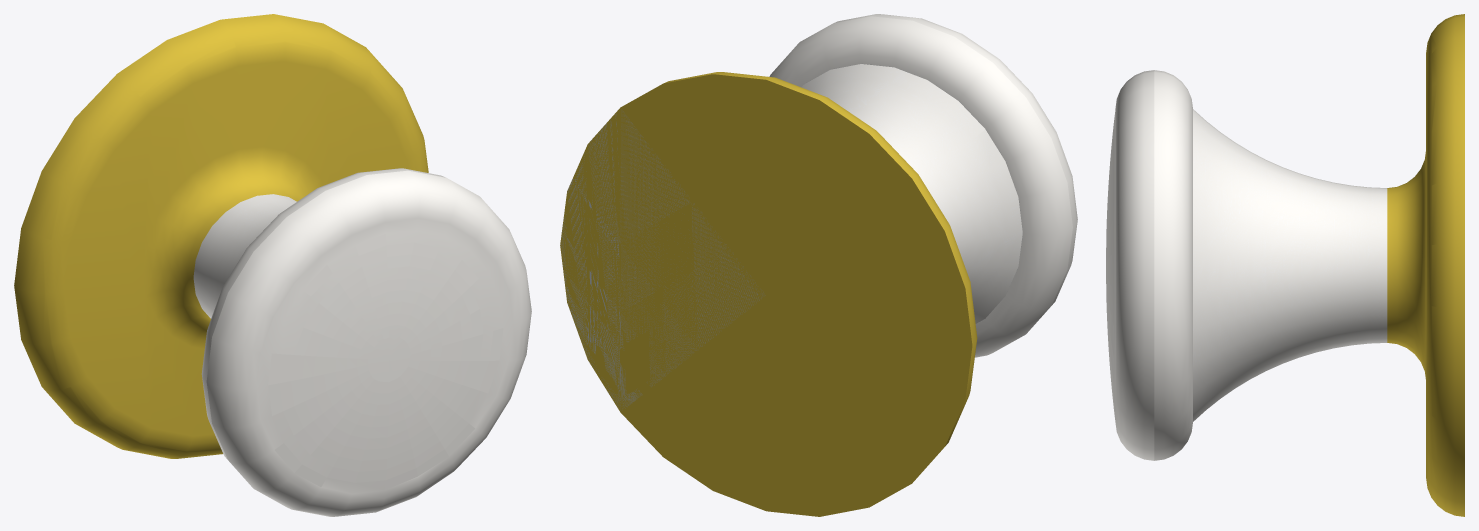
3 views of the same model, side by side, from view 1: azimuth 30°, elevation 25°; view 2: azimuth 150°, elevation 25°; view 3: azimuth 270°, elevation 25° (orthographic). The views are drawn at different scales.
Parts seen in each view (by area): view 1: SketchUp.013, SketchUp.015, SketchUp.012, SketchUp.014; view 2: SketchUp.015, SketchUp.016, SketchUp.013, SketchUp.014; view 3: SketchUp.014, SketchUp.013, SketchUp.015, SketchUp.012.
Boxes of the visible parts, box(x1,y1,x2,y2) form: SketchUp.013: box(201, 168, 531, 516); SketchUp.015: box(14, 14, 428, 458); SketchUp.012: box(143, 146, 323, 349); SketchUp.014: box(193, 194, 296, 318); SketchUp.015: box(620, 72, 977, 516); SketchUp.016: box(560, 107, 765, 412); SketchUp.013: box(769, 14, 1077, 357); SketchUp.014: box(801, 64, 1022, 323); SketchUp.014: box(1193, 109, 1387, 421); SketchUp.013: box(1106, 70, 1192, 460); SketchUp.015: box(1426, 14, 1464, 516); SketchUp.012: box(1387, 152, 1425, 378).
Bounding box in the file's own units: 0.065 × 0.0462 × 0.065.
